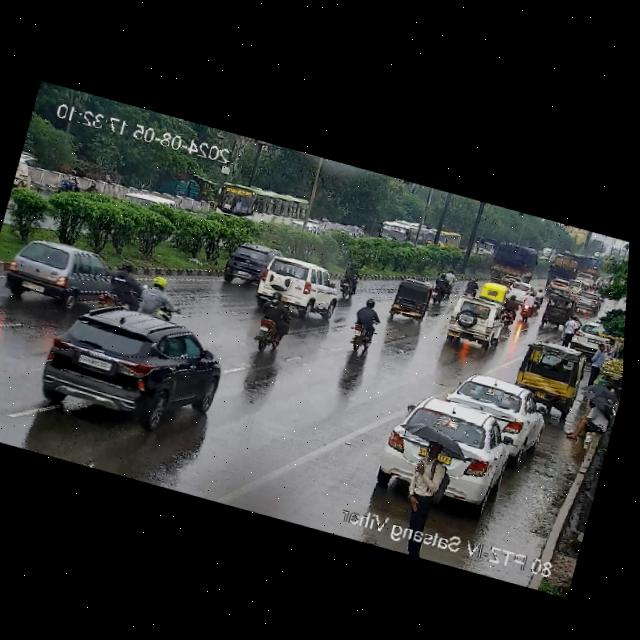bus: (213, 175, 315, 237), (375, 211, 433, 252), (424, 224, 467, 260)
car: (28, 287, 242, 447), (389, 391, 519, 486), (2, 228, 118, 310), (446, 367, 548, 448), (256, 251, 347, 323), (509, 336, 589, 410), (436, 293, 509, 355), (221, 239, 276, 289), (385, 275, 433, 324), (567, 318, 624, 358), (537, 291, 580, 336), (474, 278, 511, 307), (570, 287, 603, 317), (545, 275, 581, 299), (506, 279, 534, 302)
motorcycle: (101, 258, 156, 314), (249, 291, 294, 355), (132, 277, 186, 325), (484, 237, 539, 284), (347, 294, 383, 355), (421, 262, 457, 307), (334, 262, 368, 302), (53, 166, 84, 198), (495, 293, 522, 326), (516, 289, 541, 322), (534, 287, 544, 305)
person: (400, 428, 455, 522), (560, 394, 613, 450), (577, 375, 622, 430), (581, 338, 612, 385), (554, 311, 583, 347)
truck: (546, 253, 579, 283)
